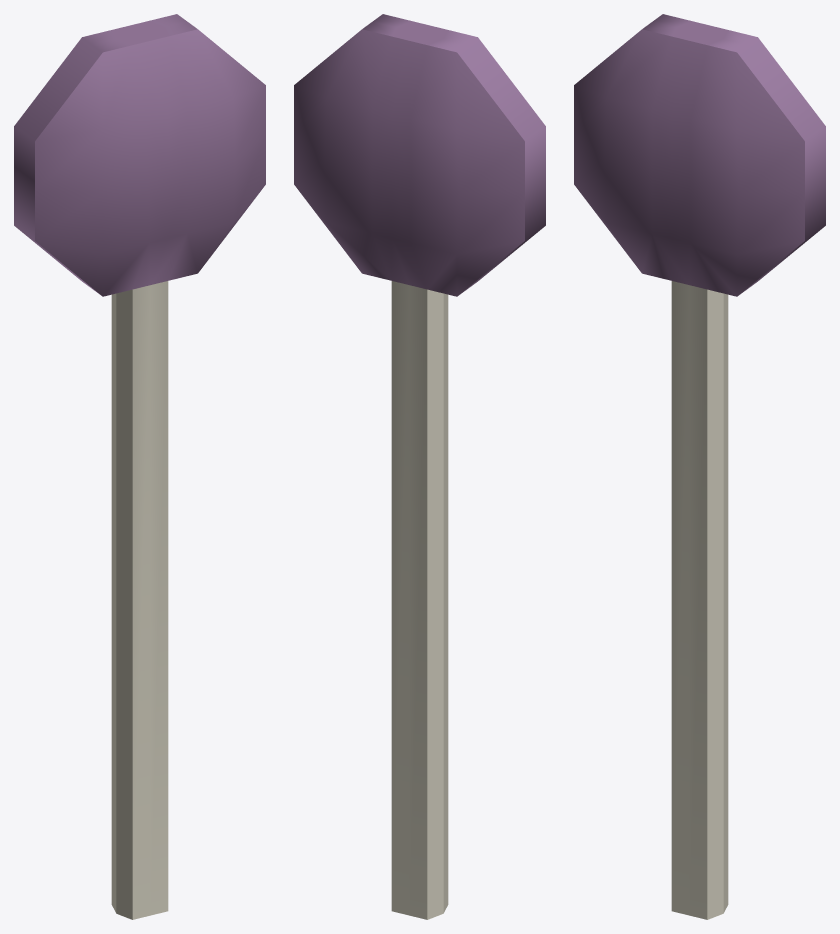
File: sucon.fbx
3 renders of one model, left to right at view 1: azimuth 30°, elevation 25°; view 2: azimuth 150°, elevation 25°; view 3: azimuth 330°, elevation 25°, orthographic.
Parts seen in each view (by area): view 1: sucon; view 2: sucon; view 3: sucon.
Part boxes in pixels (x1,y1,x2,y2): sucon: (14, 14, 265, 919); sucon: (294, 14, 545, 919); sucon: (574, 14, 825, 919).
Size of the model in its own units: 24.44 by 88.47 by 10.39.
